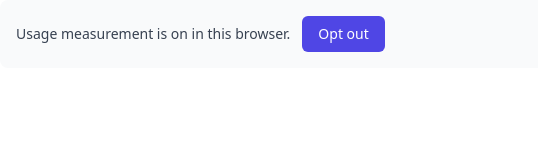
Scenario: AnalyticsOptOut › sets and clears umami.disabled and shows the current state
Expected: the message shows "is on", [16,24,290,43]
Step 1. Click the button "Opt out" → click(344, 34), box [302,16,385,52]
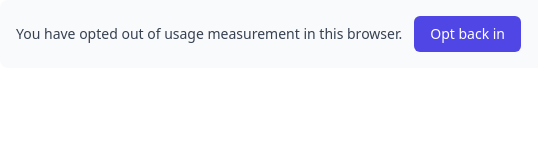
Expected: the message shows "opted out", [16,24,402,43]
Step 2. Click the button "Opt back in" → click(468, 34), box [414,16,521,52]
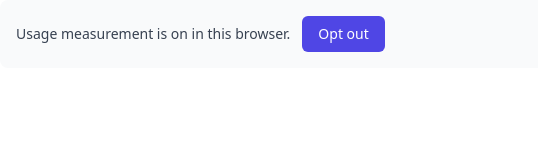
Expected: the message shows "is on", [16,24,290,43]
